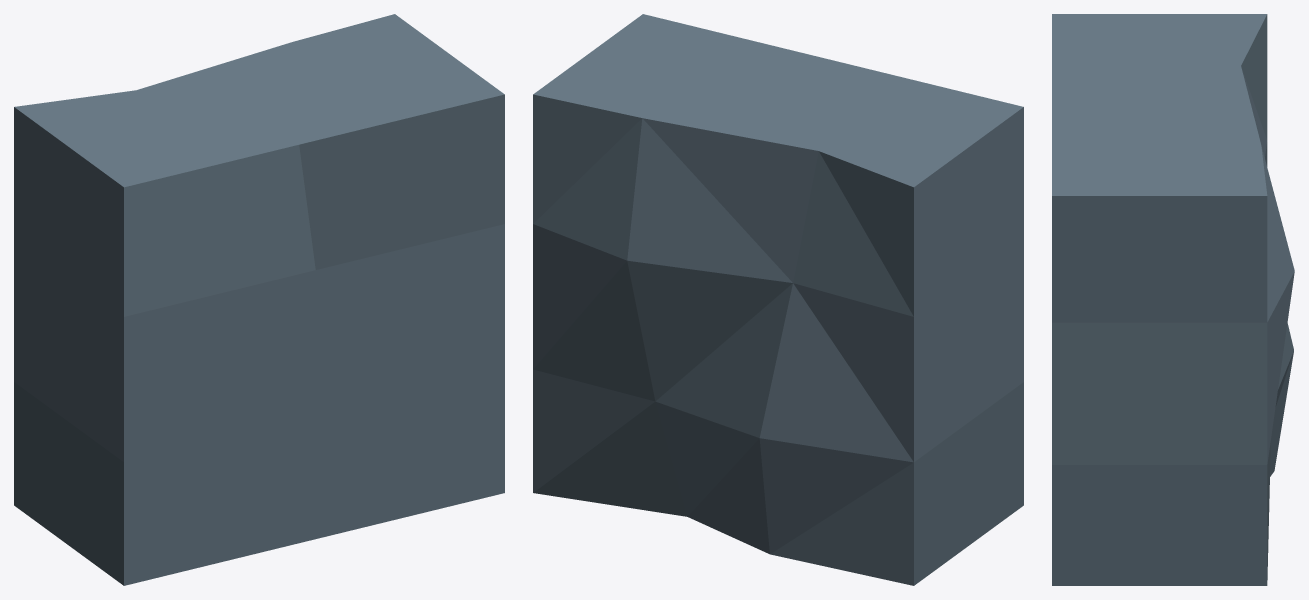
The model's file is T04_Cliff_Straight_2m.fbx.
3 views of the same model, side by side, from view 1: azimuth 30°, elevation 25°; view 2: azimuth 150°, elevation 25°; view 3: azimuth 270°, elevation 25° (orthographic). The views are drawn at different scales.
Parts seen in each view (by area): view 1: T04_Cliff_Straight_2m; view 2: T04_Cliff_Straight_2m; view 3: T04_Cliff_Straight_2m.
Boxes of the visible parts, x1=… form: T04_Cliff_Straight_2m: x1=14, y1=14, x2=504, y2=585; T04_Cliff_Straight_2m: x1=533, y1=14, x2=1023, y2=585; T04_Cliff_Straight_2m: x1=1052, y1=14, x2=1294, y2=585.
Size of the model in its own units: 2 by 2 by 1.13.
Materials: 1 (1 with a texture image).
